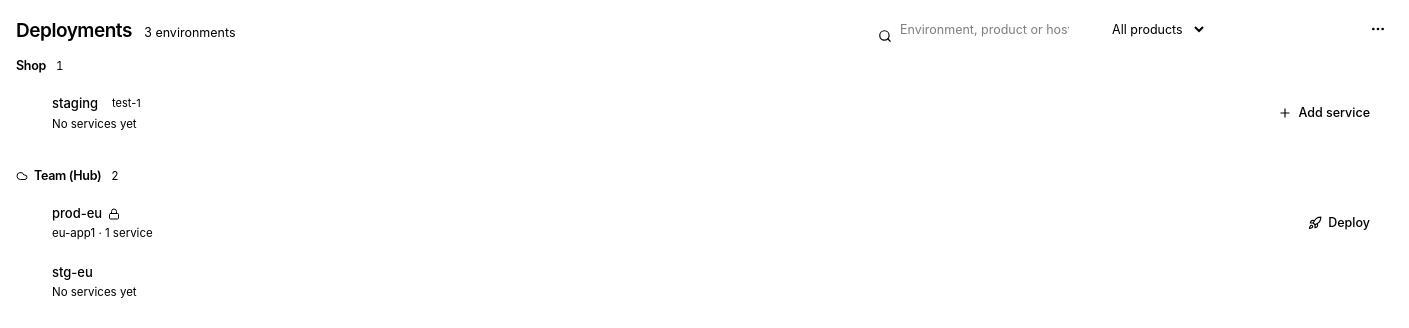
Test case: team deployments › team environments appear in a Hub group with lock badges
The width and height of the screenshot is (1409, 328).
Expected: the list item "stg-eu" is shown, x1=16 y1=252 x2=1392 y2=311
Expected: the element "Shop" is shown, x1=16 y1=57 x2=1392 y2=143
Click the button with aria-label "prod-eu,".
click(77, 213)  # box x1=16 y1=194 x2=1286 y2=253
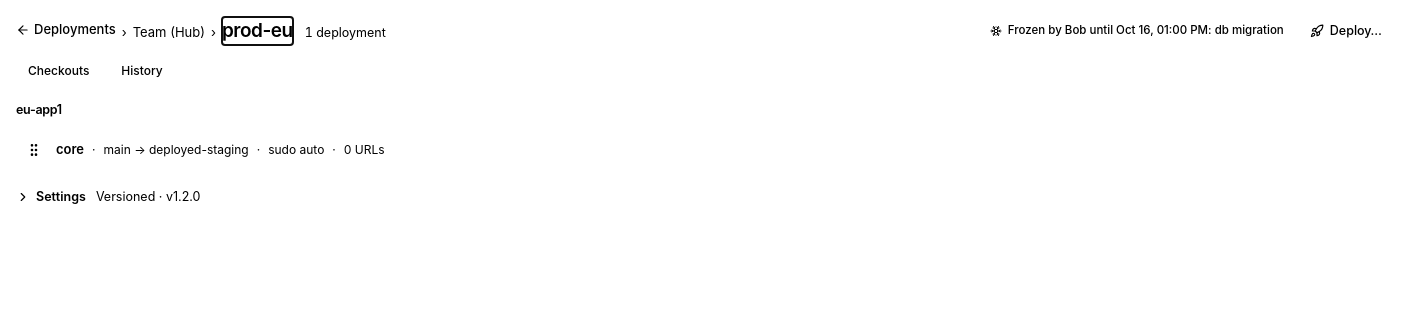
Now the text "Frozen by Bob until Oct 16, 01:00 PM: db migration" is shown, box x1=982 y1=21 x2=1292 y2=41
Now the navigation bar named "Breadcrumb" reads "Deployments › Team (Hub) › prod-eu", box x1=16 y1=16 x2=293 y2=45
Now the button "New deployment" is gone
